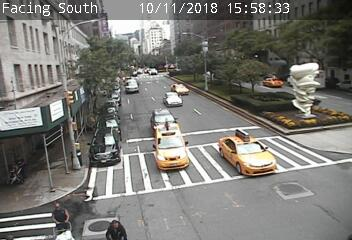car: (220, 135, 276, 175), (156, 124, 188, 171), (151, 109, 178, 137), (164, 92, 181, 106), (125, 79, 139, 94), (171, 84, 189, 95)
